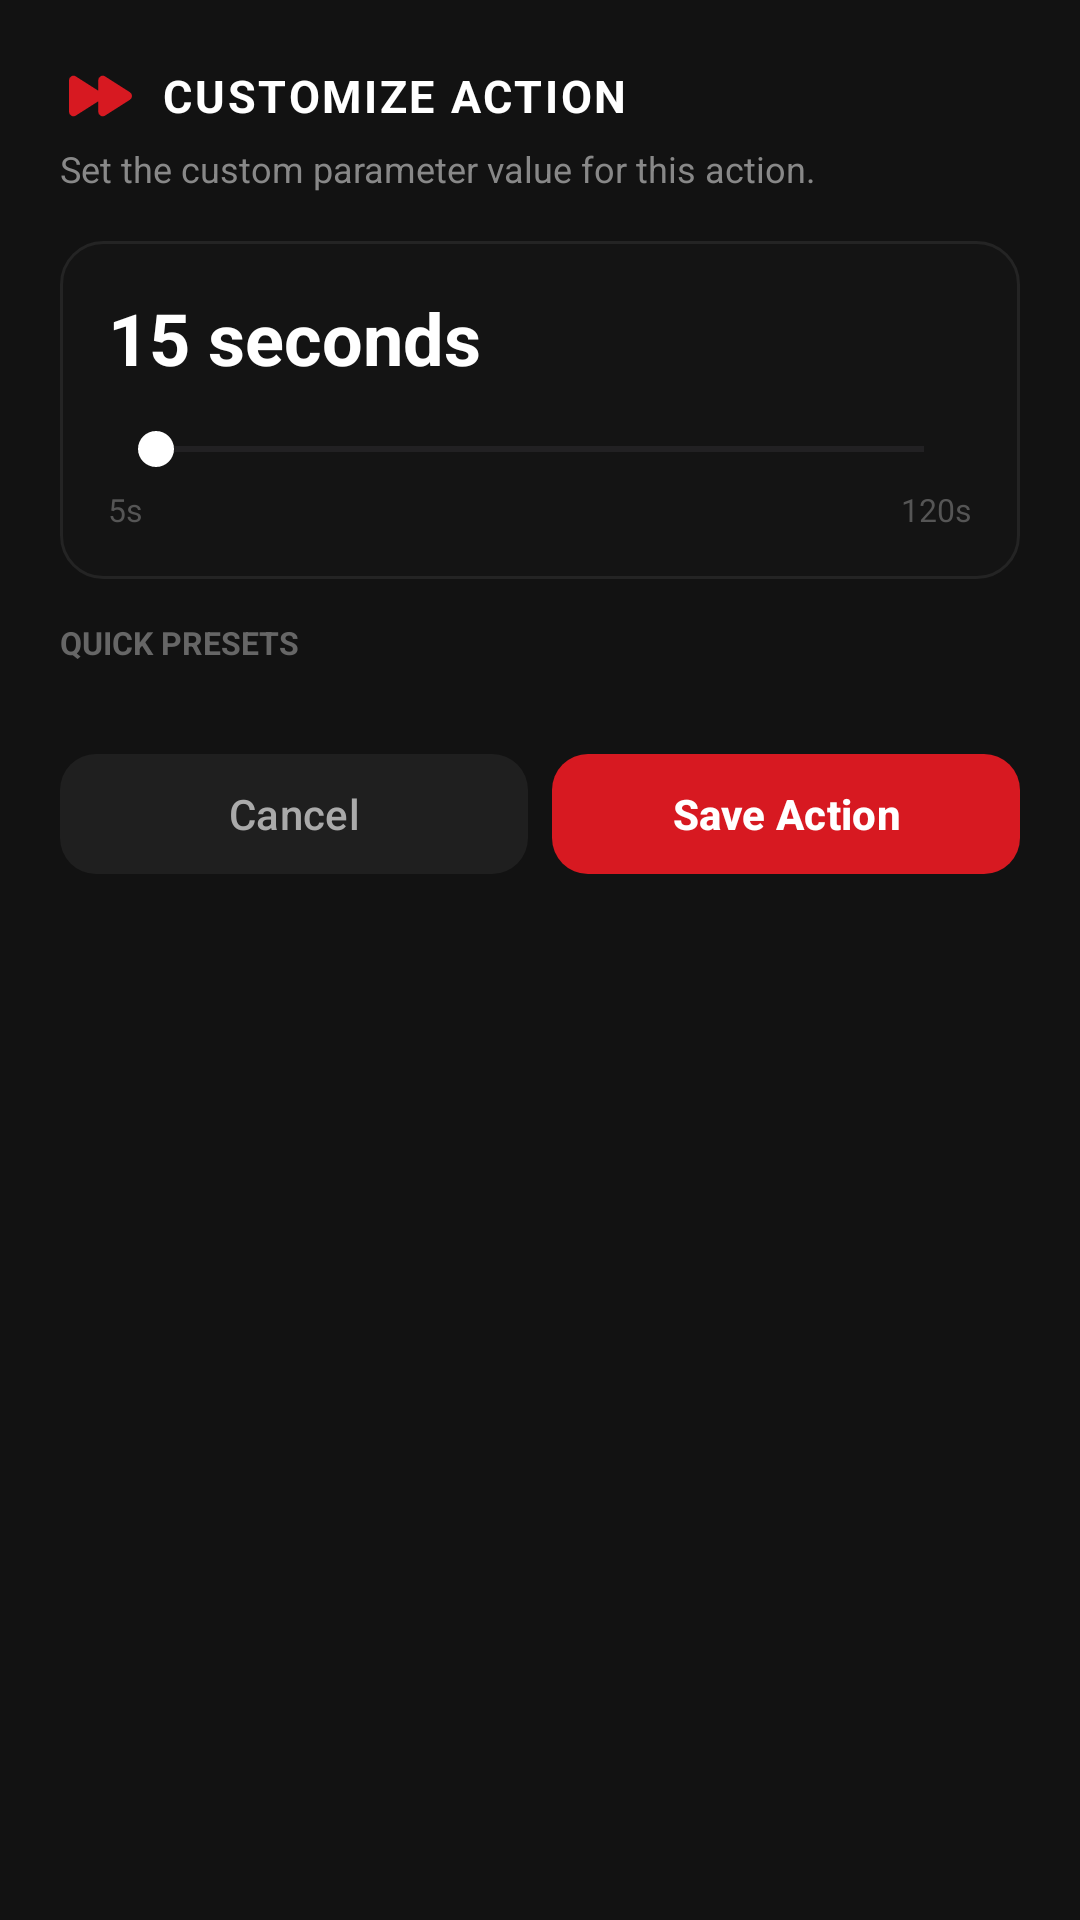

Named icons in this screenshot (1080x1920) and their bounding boxes, [x1,y1,x2,y2]:
fast forward: [69,75,132,117]
